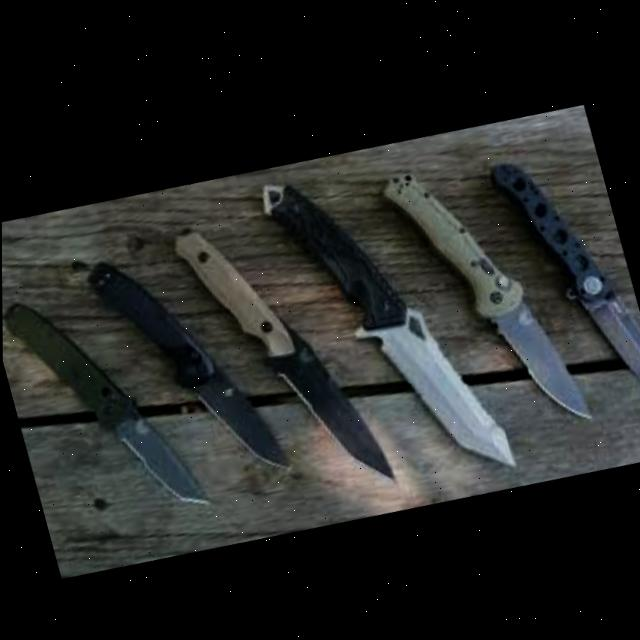Knife: (257, 133, 518, 505), (170, 189, 396, 513), (378, 133, 594, 447), (77, 219, 293, 505), (2, 262, 211, 539), (488, 129, 640, 423)
